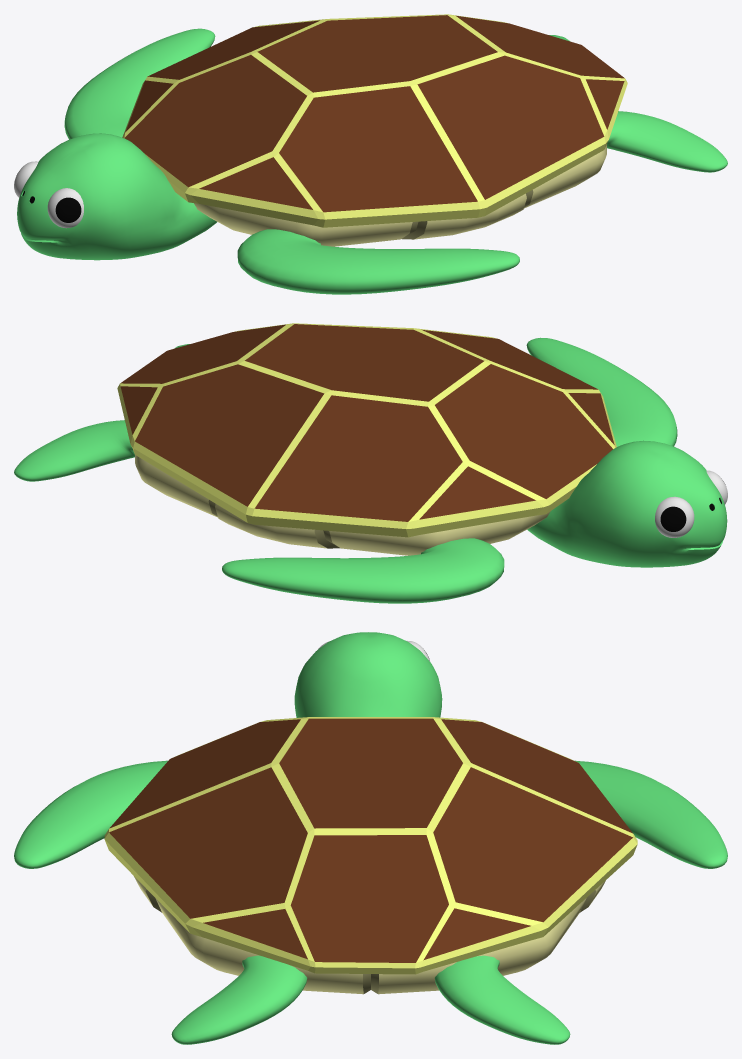
The model's file is Turtle.fbx.
3 renders of one model, top to bottom at view 1: azimuth 30°, elevation 25°; view 2: azimuth 150°, elevation 25°; view 3: azimuth 270°, elevation 25°, orthographic. The views are drawn at different scales.
Visible parts, largest first — view 1: Shell, Arms, Head, Body, Feet, Eyebrows; view 2: Shell, Arms, Head, Body, Feet, Eyebrows; view 3: Shell, Arms, Feet, Head, Body.
Part boxes in pixels (x1=…): Shell: x1=122, y1=14, x2=627, y2=227; Arms: x1=64, y1=28, x2=519, y2=294; Head: x1=17, y1=133, x2=216, y2=260; Body: x1=194, y1=144, x2=606, y2=246; Feet: x1=549, y1=35, x2=727, y2=172; Eyebrows: x1=14, y1=161, x2=83, y2=228; Shell: x1=117, y1=323, x2=616, y2=537; Arms: x1=222, y1=337, x2=677, y2=603; Head: x1=527, y1=440, x2=727, y2=567; Body: x1=135, y1=455, x2=550, y2=555; Feet: x1=14, y1=344, x2=189, y2=481; Eyebrows: x1=655, y1=470, x2=727, y2=537; Shell: x1=104, y1=717, x2=637, y2=974; Arms: x1=14, y1=760, x2=727, y2=868; Feet: x1=171, y1=955, x2=570, y2=1044; Head: x1=294, y1=632, x2=442, y2=717; Body: x1=134, y1=876, x2=605, y2=994.
Bounding box in the file's own units: 439 × 96.66 × 389.
